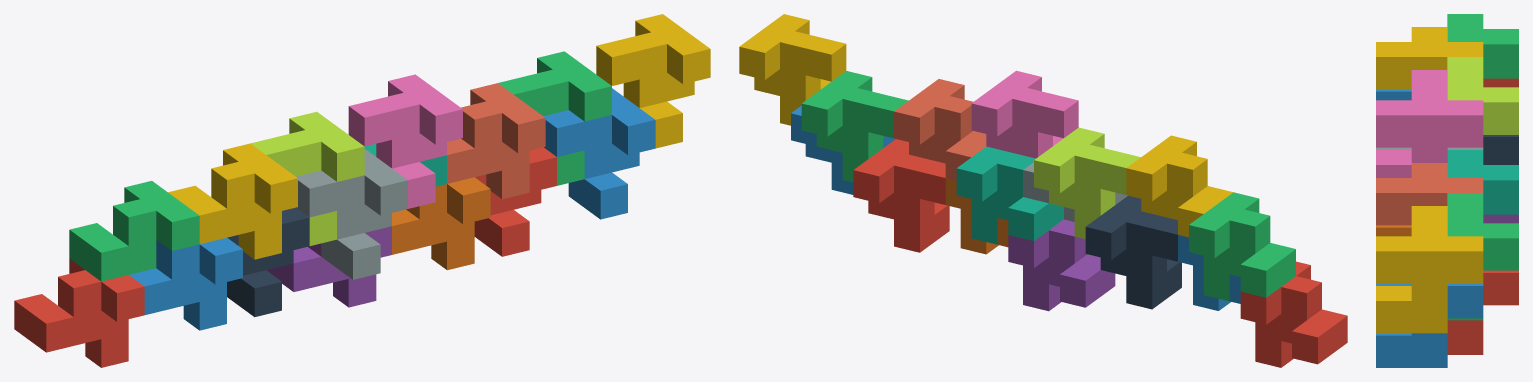
File: tiling.obj
3 renders of one model, left to right at view 1: azimuth 30°, elevation 25°; view 2: azimuth 150°, elevation 25°; view 3: azimuth 270°, elevation 25°, orthographic. The views are drawn at different scales.
Visible parts, largest first — view 1: copy_1_domain_1, copy_2_domain_8, copy_2_domain_4, copy_1_domain_4, copy_2_domain_6, copy_1_domain_3, copy_2_domain_2, copy_1_domain_8, copy_1_domain_2, copy_1_domain_6, copy_2_domain_3, copy_2_domain_7 (+4 smaller); view 2: copy_1_domain_3, copy_2_domain_1, copy_2_domain_5, copy_1_domain_1, copy_2_domain_8, copy_2_domain_7, copy_2_domain_4, copy_2_domain_3, copy_1_domain_7, copy_1_domain_5, copy_1_domain_4, copy_1_domain_8 (+4 smaller); view 3: copy_2_domain_8, copy_2_domain_4, copy_2_domain_6, copy_1_domain_4, copy_1_domain_8, copy_2_domain_7, copy_2_domain_3, copy_1_domain_3, copy_1_domain_7, copy_2_domain_5, copy_2_domain_1, copy_1_domain_2 (+4 smaller).
Part boxes in pixels (<box>): copy_1_domain_1: <box>14,258,144,367</box>; copy_2_domain_8: <box>596,14,710,148</box>; copy_2_domain_4: <box>348,74,462,208</box>; copy_1_domain_4: <box>168,143,297,259</box>; copy_2_domain_6: <box>543,88,655,219</box>; copy_1_domain_3: <box>69,181,199,281</box>; copy_2_domain_2: <box>296,149,407,279</box>; copy_1_domain_8: <box>447,83,545,199</box>; copy_1_domain_2: <box>129,237,242,330</box>; copy_1_domain_6: <box>392,177,490,270</box>; copy_2_domain_3: <box>250,111,364,245</box>; copy_2_domain_7: <box>498,51,611,185</box>; copy_1_domain_3: <box>1189,192,1295,301</box>; copy_2_domain_1: <box>1085,195,1181,309</box>; copy_2_domain_5: <box>853,139,949,252</box>; copy_1_domain_1: <box>1240,261,1347,367</box>; copy_2_domain_8: <box>739,14,846,125</box>; copy_2_domain_7: <box>801,71,908,182</box>; copy_2_domain_4: <box>971,70,1078,158</box>; copy_2_domain_3: <box>1034,127,1140,238</box>; copy_1_domain_7: <box>956,146,1063,244</box>; copy_1_domain_5: <box>1008,219,1115,311</box>; copy_1_domain_4: <box>1126,135,1233,237</box>; copy_1_domain_8: <box>894,79,986,180</box>; copy_2_domain_8: <box>1376,206,1483,333</box>; copy_2_domain_4: <box>1376,70,1483,177</box>; copy_2_domain_6: <box>1376,283,1483,367</box>; copy_1_domain_4: <box>1376,27,1483,89</box>; copy_1_domain_8: <box>1376,163,1483,225</box>; copy_2_domain_7: <box>1447,193,1518,320</box>; copy_2_domain_3: <box>1447,57,1518,134</box>; copy_1_domain_3: <box>1447,14,1518,78</box>; copy_1_domain_7: <box>1447,150,1518,214</box>; copy_2_domain_5: <box>1447,270,1518,354</box>; copy_2_domain_1: <box>1483,135,1518,164</box>; copy_1_domain_2: <box>1376,89,1411,100</box>.
Bounding box in the file's own units: 23 × 7 × 4.
